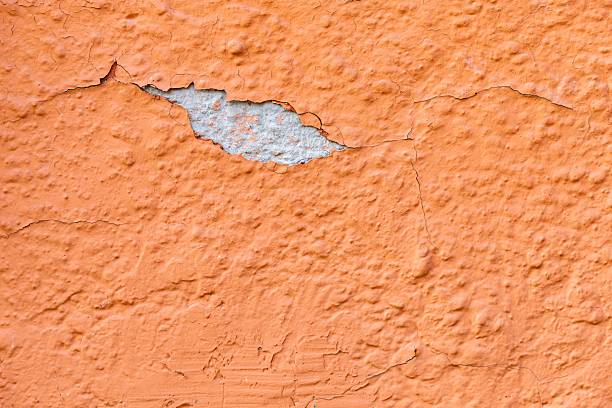wall_peeling: (138, 81, 350, 169)
